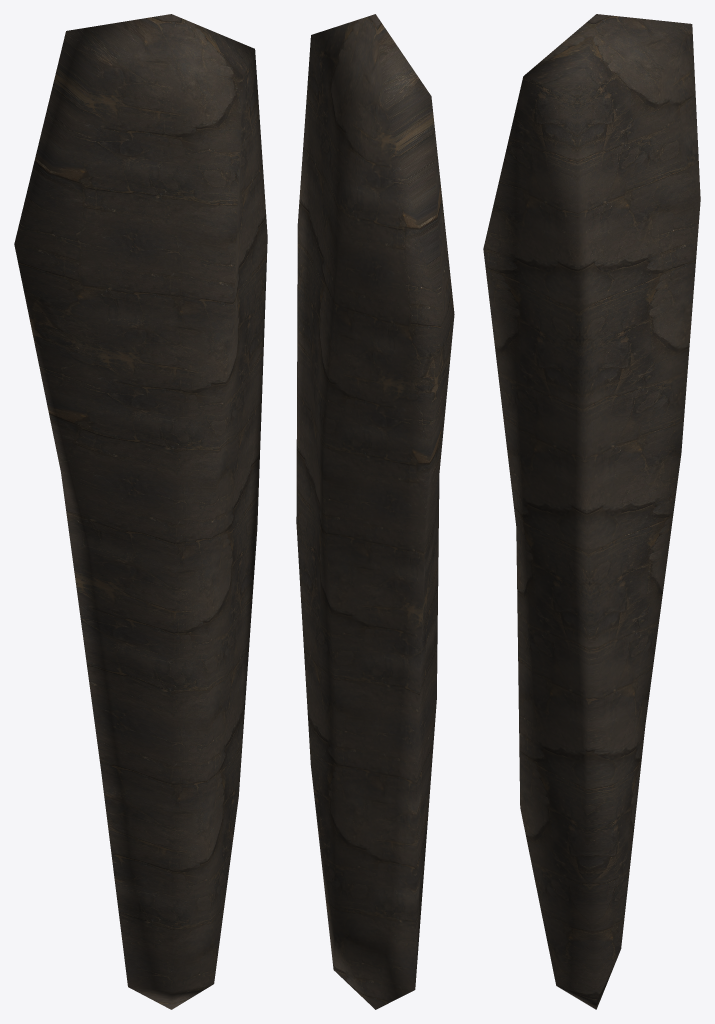
File: cliff_pillar_a_lod3.gltf
3 views of the same model, side by side, from view 1: azimuth 30°, elevation 25°; view 2: azimuth 150°, elevation 25°; view 3: azimuth 270°, elevation 25° (orthographic).
Parts seen in each view (by area): view 1: cliff_pillar_a_LOD3; view 2: cliff_pillar_a_LOD3; view 3: cliff_pillar_a_LOD3.
Part boxes in pixels (<box>): cliff_pillar_a_LOD3: <box>14,14,267,1009</box>; cliff_pillar_a_LOD3: <box>296,14,454,1009</box>; cliff_pillar_a_LOD3: <box>483,14,700,1009</box>.
Bounding box in the file's own units: 7.11 × 34 × 6.72.
Materials: 1 (1 with a texture image).
